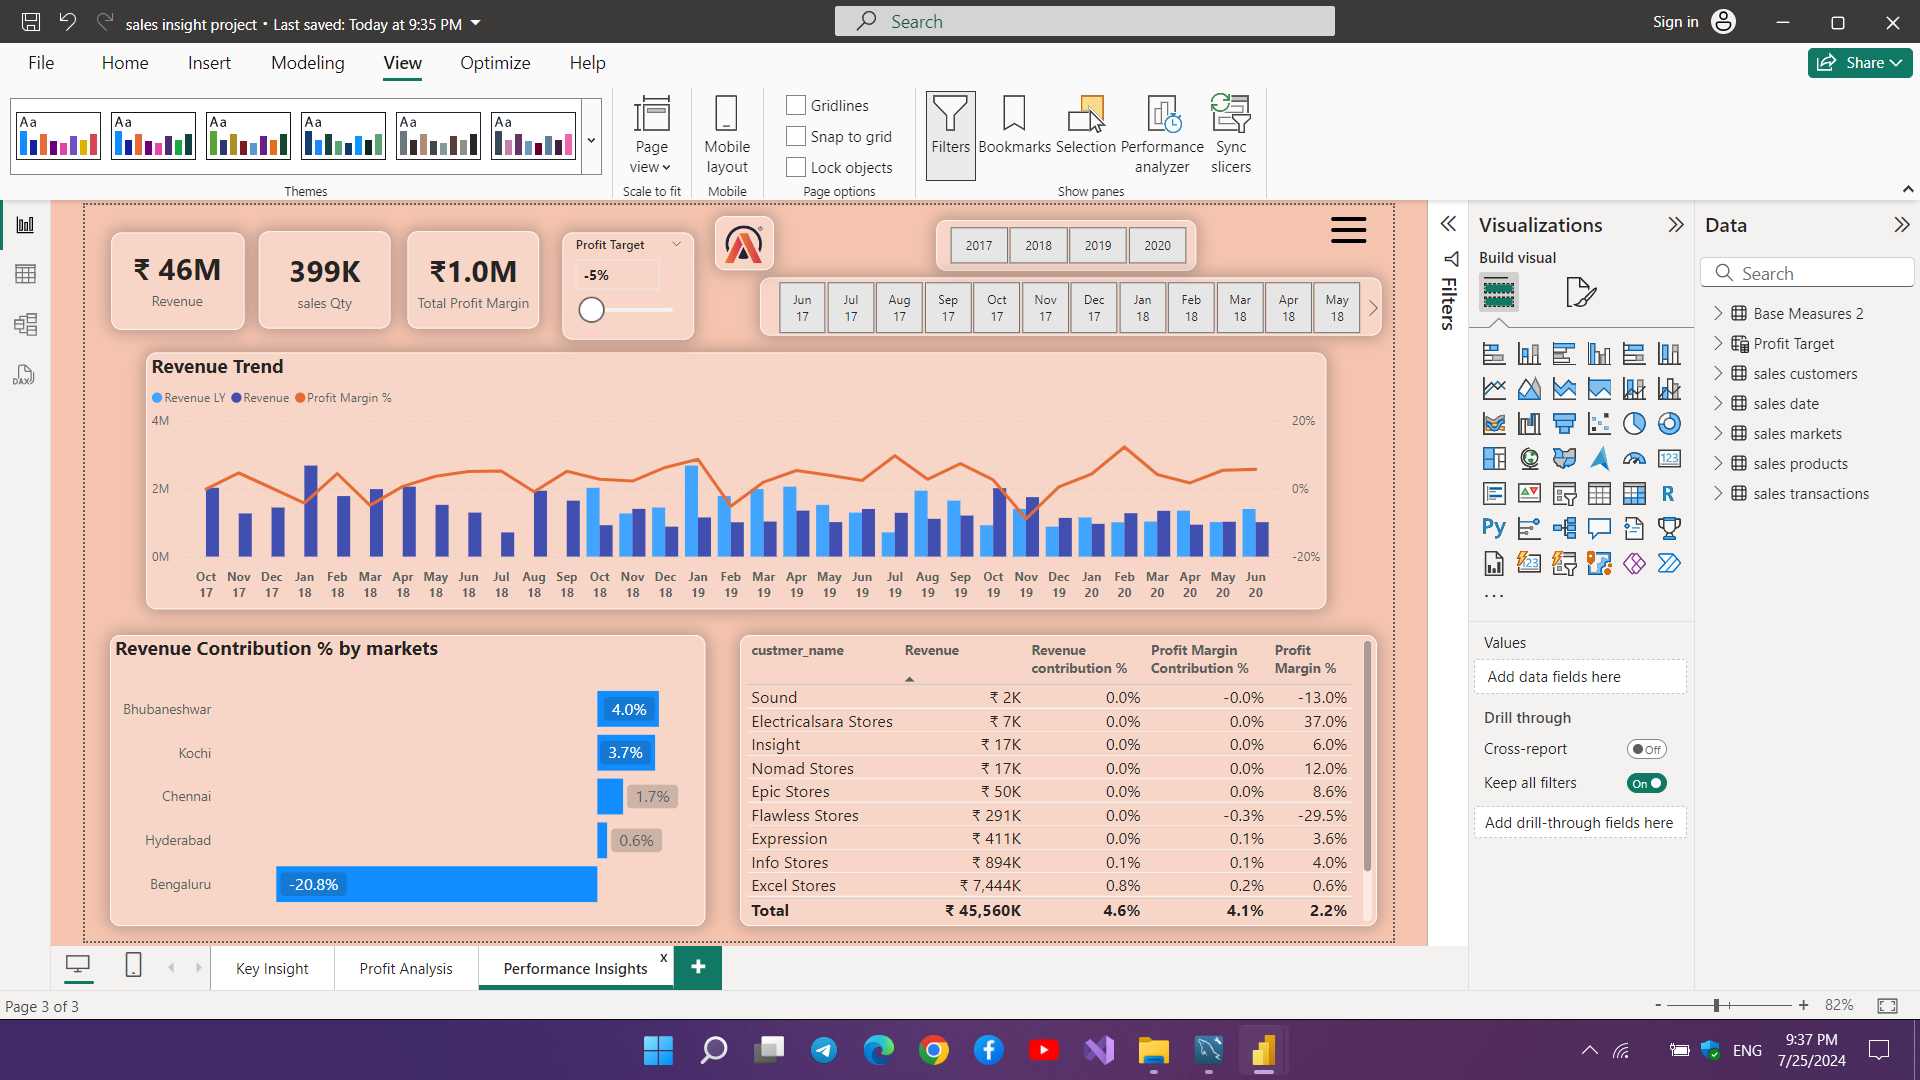

The page's visual inventory and layout, read from the dashboard file:
{"tool":"powerbi","page":{"name":"Performance Insights","canvas":[1280,720],"ordinal":2},"visuals":[{"type":"image","box":[1214.8,3,44.4,44.4],"z":0},{"type":"shape","box":[25.3,26.5,130.3,95.3],"z":5000},{"type":"card","fields":{"Values":["Base Measures 2.Revenue"]},"box":[25.3,25.3,129,91.7],"z":6000},{"type":"shape","box":[24.1,420.9,582.5,284.6],"z":7000},{"type":"barChart","title":"Revenue Contribution % by markets","fields":{"Category":["sales markets.zone","sales markets.markets_name"],"Y":["Base Measures 2.Profit Margin %"]},"box":[24.1,420.9,582.5,284.6],"z":8000},{"type":"shape","box":[60.3,144.7,1154.2,250.9],"z":9000},{"type":"lineClusteredColumnComboChart","title":"Revenue Trend","fields":{"Category":["sales date.cy_date"],"Y":["Base Measures 2.Revenue LY","Base Measures 2.Revenue"],"Y2":["Base Measures 2.Profit Margin %"]},"box":[60.3,144.7,1154.2,250.9],"z":10000},{"type":"shape","box":[640.4,420.9,623.5,284.6],"z":11000},{"type":"tableEx","title":"Top 5 customer","fields":{"Values":["sales customers.custmer_name","Base Measures 2.Revenue","Base Measures 2.Revenue contribution %","Base Measures 2.Profit Margin Contribution %","Base Measures 2.Profit Margin %"]},"box":[640.4,420.9,623.5,284.6],"z":12000},{"type":"shape","box":[832.2,14.5,254.5,49.4],"z":13000},{"type":"slicer","fields":{"Values":["sales date.year"]},"box":[820.1,14.5,281,49.4],"z":14000},{"type":"shape","box":[660.9,71.2,607.8,56.7],"z":15000},{"type":"slicer","fields":{"Values":["sales date.cy_date"]},"box":[652.5,68.7,618.7,63.9],"z":16000},{"type":"shape","box":[170.1,25.3,129,95.3],"z":17000},{"type":"shape","box":[316,25.3,129,95.3],"z":18000},{"type":"shape","box":[466.7,26.5,129,104.9],"z":19000},{"type":"card","fields":{"Values":["Base Measures 2.sales Qty"]},"box":[170.1,25.3,129,95.3],"z":20000},{"type":"card","fields":{"Values":["Base Measures 2.Total Profit Margin"]},"box":[316,25.3,129,95.3],"z":21000},{"type":"slicer","fields":{"Values":["Profit Target.Profit Target"]},"box":[466.7,25.3,129,104.9],"z":22000},{"type":"shape","box":[616.3,10.9,57.9,53.1],"z":23000},{"type":"image","box":[617.5,14.5,54.3,47],"z":24000}]}

Visuals, with their boxes on the page's 1280x720 design canvas (x1, y1, x2, y2). These are canvas units, not pixel positions in the 1920x1080 screenshot, which may show the page scaled, cropped or inside an application window:
image: 1215 3 1259 47
shape: 25 26 156 122
card - Base Measures 2.Revenue: 25 25 154 117
shape: 24 421 607 706
"Revenue Contribution % by markets" barChart: 24 421 607 706
shape: 60 145 1214 396
"Revenue Trend" lineClusteredColumnComboChart: 60 145 1214 396
shape: 640 421 1264 706
"Top 5 customer" tableEx: 640 421 1264 706
shape: 832 14 1087 64
slicer - sales date.year: 820 14 1101 64
shape: 661 71 1269 128
slicer - sales date.cy_date: 652 69 1271 133
shape: 170 25 299 121
shape: 316 25 445 121
shape: 467 26 596 131
card - Base Measures 2.sales Qty: 170 25 299 121
card - Base Measures 2.Total Profit Margin: 316 25 445 121
slicer - Profit Target.Profit Target: 467 25 596 130
shape: 616 11 674 64
image: 618 14 672 62
